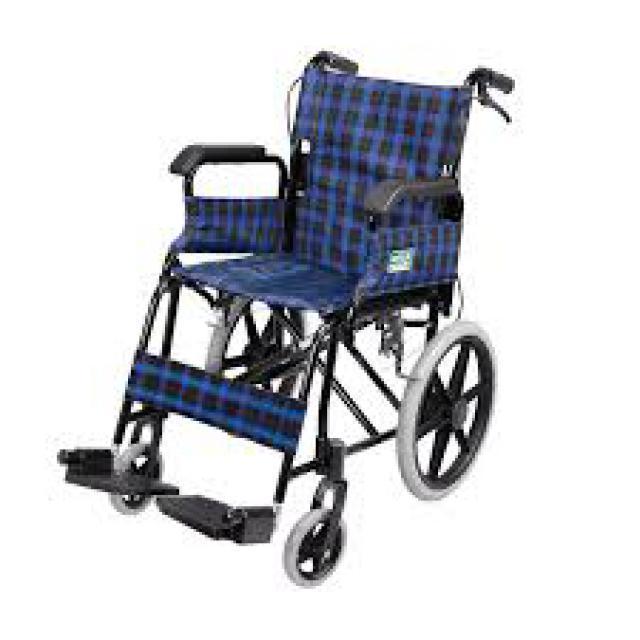wheelchairs: (85, 48, 497, 586)
